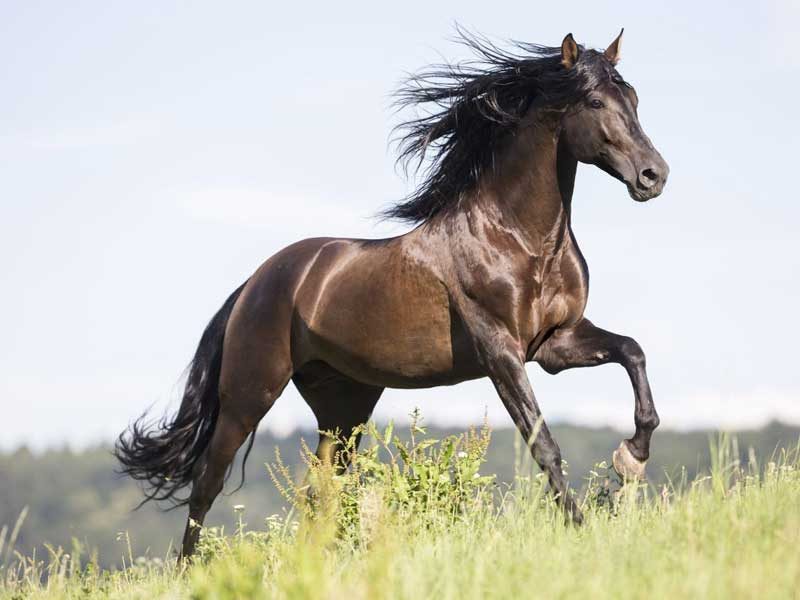horse: (91, 29, 683, 575)
